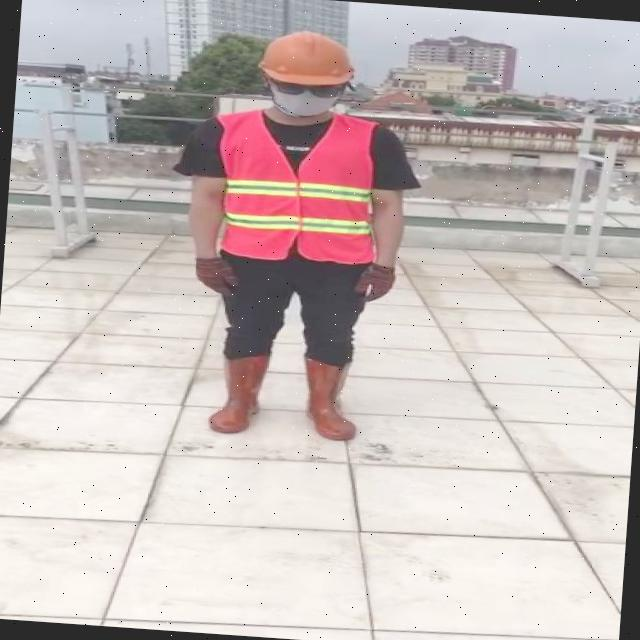boots: (297, 357, 364, 443), (208, 352, 272, 436)
